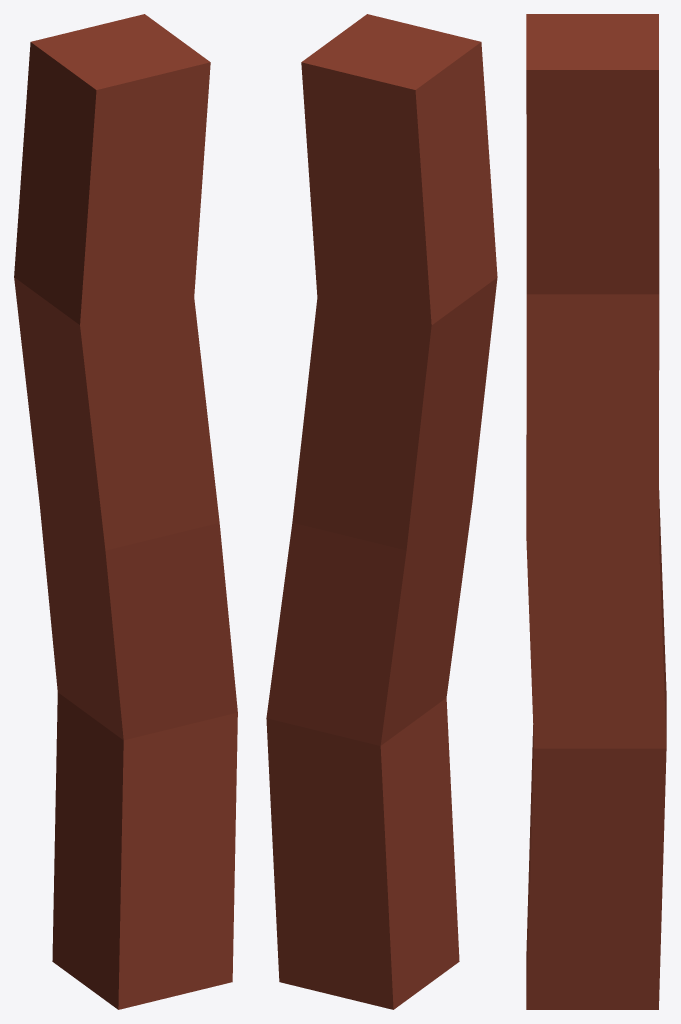
The model's file is sick_2a.fbx.
3 renders of one model, left to right at view 1: azimuth 30°, elevation 25°; view 2: azimuth 150°, elevation 25°; view 3: azimuth 270°, elevation 25°, orthographic.
Parts seen in each view (by area): view 1: sick_2a; view 2: sick_2a; view 3: sick_2a.
Boxes of the visible parts, <box> form: sick_2a: <box>14,14,237,1009</box>; sick_2a: <box>266,14,497,1009</box>; sick_2a: <box>526,14,666,1009</box>.
Size of the model in its own units: 13.26 by 72.55 by 9.92.
